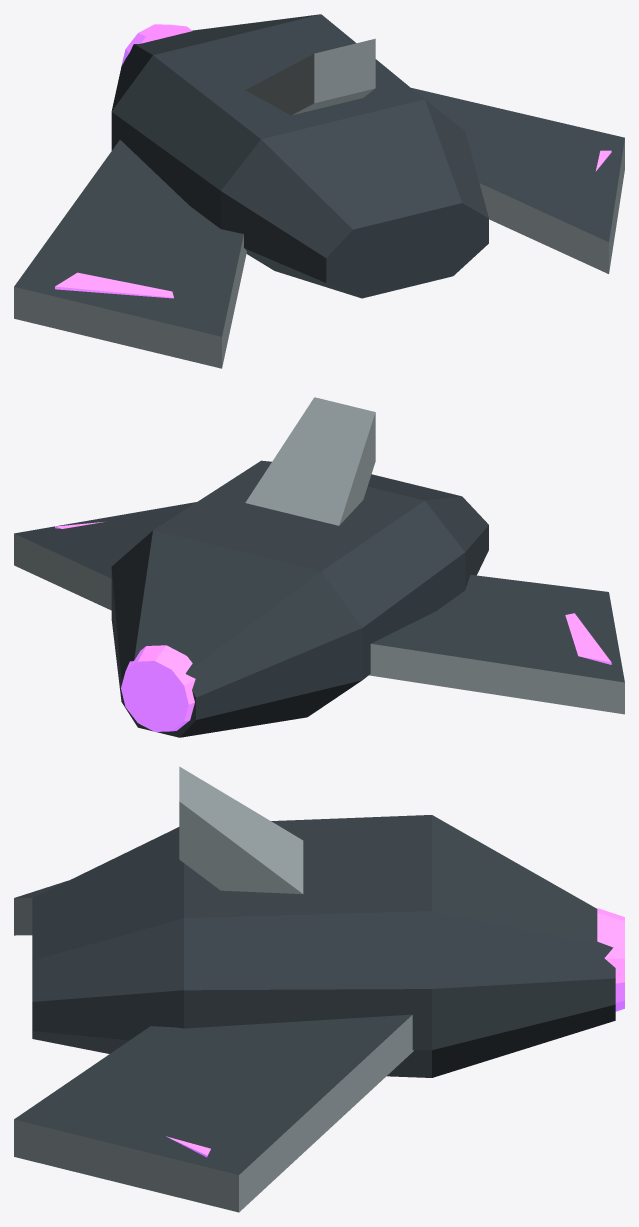
The model's file is wisp.glb.
The picture shows the model from 3 angles, top to bottom: view 1: azimuth 30°, elevation 25°; view 2: azimuth 150°, elevation 25°; view 3: azimuth 270°, elevation 25°; orthographic projection. The views are drawn at different scales.
Visible parts, largest first — view 1: wisp; view 2: wisp; view 3: wisp.
Part boxes in pixels (<box>): wisp: <box>14,14,624,368</box>; wisp: <box>14,397,624,737</box>; wisp: <box>14,766,624,1212</box>.
Bounding box in the file's own units: 1.8 × 0.63 × 1.33.
